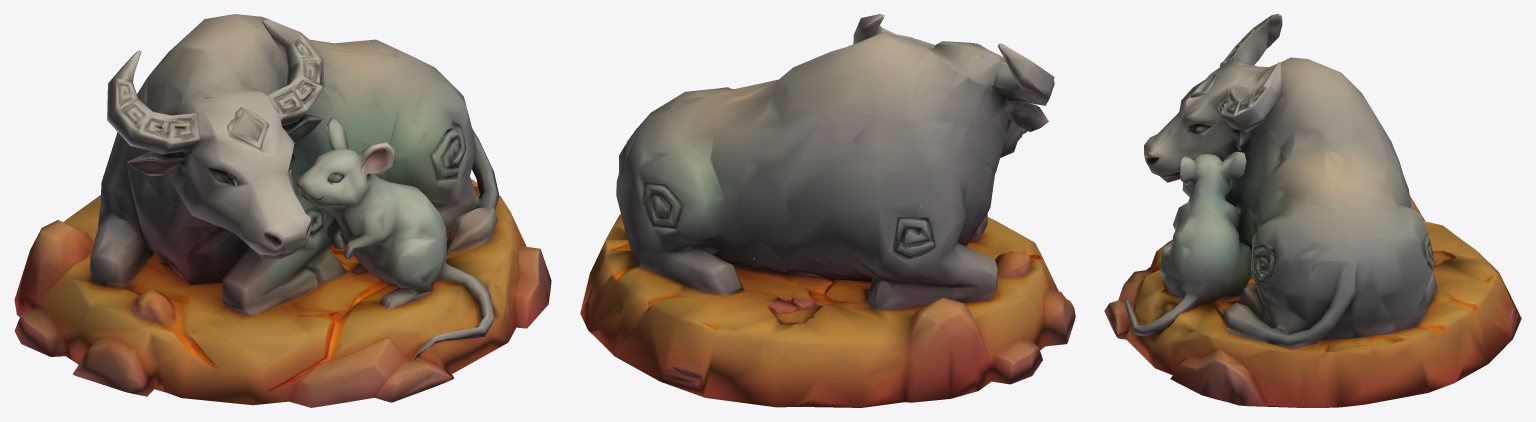
Rendered from he_zi_chou.glb.
3 views of the same model, side by side, from view 1: azimuth 30°, elevation 25°; view 2: azimuth 150°, elevation 25°; view 3: azimuth 270°, elevation 25° (orthographic). The views are drawn at different scales.
Visible parts, largest first — view 1: tripo_node_476d3f93-2fe5-4c34-abe3-9862aaaef34f; view 2: tripo_node_476d3f93-2fe5-4c34-abe3-9862aaaef34f; view 3: tripo_node_476d3f93-2fe5-4c34-abe3-9862aaaef34f.
Boxes of the visible parts, x1,y1,x2,y2 form: tripo_node_476d3f93-2fe5-4c34-abe3-9862aaaef34f: (14,14,551,407); tripo_node_476d3f93-2fe5-4c34-abe3-9862aaaef34f: (580,14,1075,407); tripo_node_476d3f93-2fe5-4c34-abe3-9862aaaef34f: (1104,14,1521,407).
Bounding box in the file's own units: 0.9981 × 0.6194 × 0.9672.
Materials: 1 (1 with a texture image).
